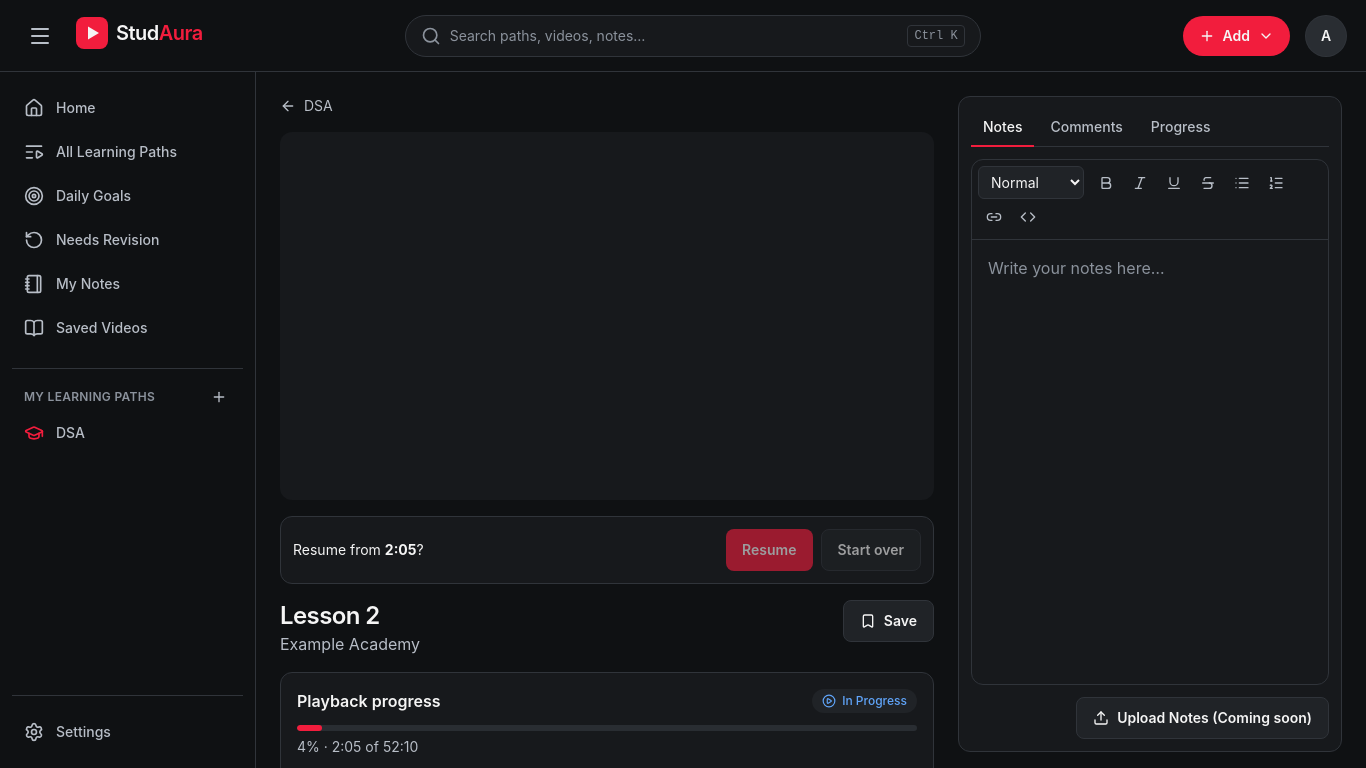
Test: the Progress tab › says when the daily goal is reached
The width and height of the screenshot is (1366, 768).
Expected: the heading "Lesson 2" is shown, top-left (280, 601), bottom-right (380, 630)
Click the tab "Progress": (1181, 128) top-left (1139, 109), bottom-right (1223, 147)
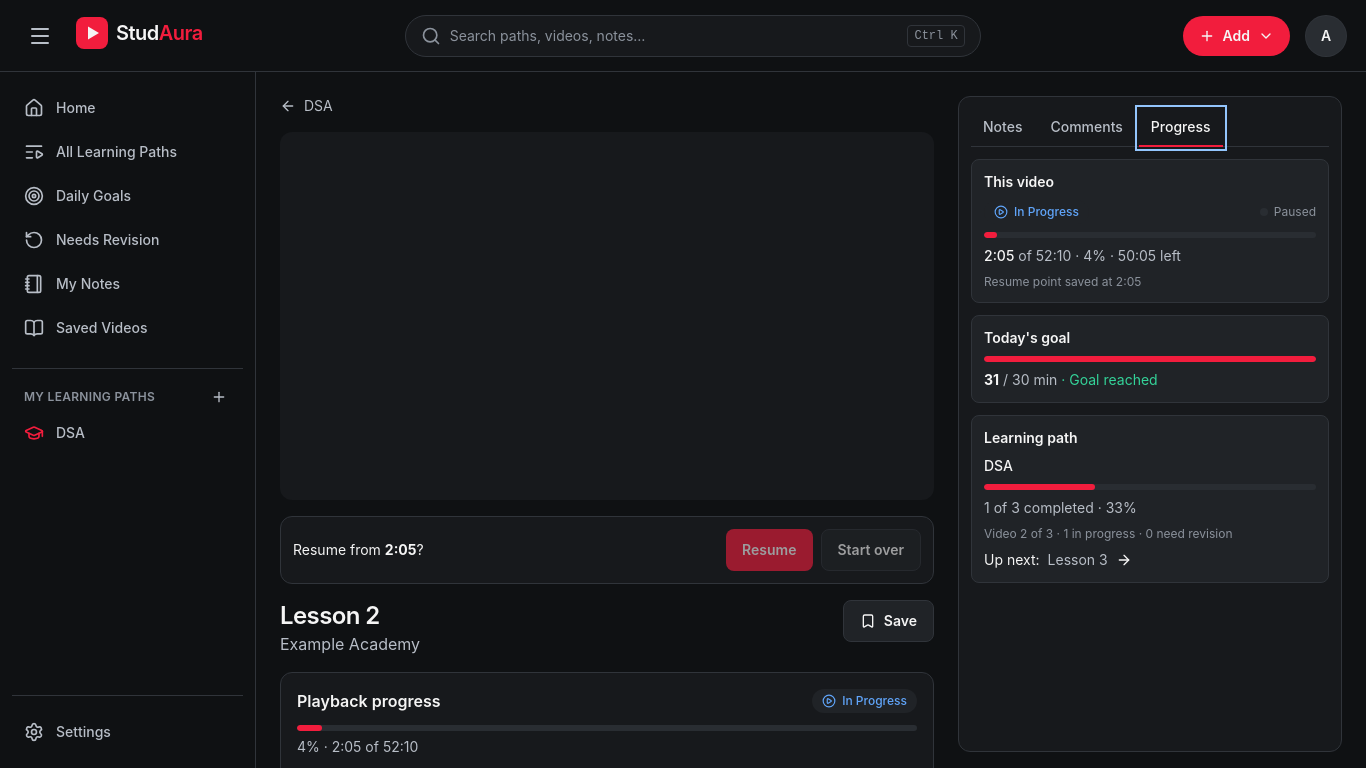
Expected: the text "· Goal reached" is shown, top-left (1057, 371), bottom-right (1158, 388)
